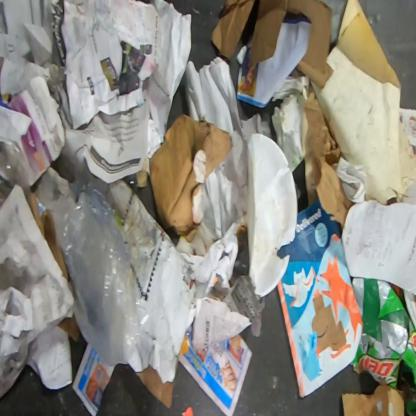cardboard: (149, 113, 233, 244), (349, 277, 415, 415), (250, 0, 334, 90), (211, 0, 255, 61), (341, 384, 406, 415), (135, 364, 174, 410)
soft_plastic: (35, 179, 151, 368), (0, 136, 31, 198)
